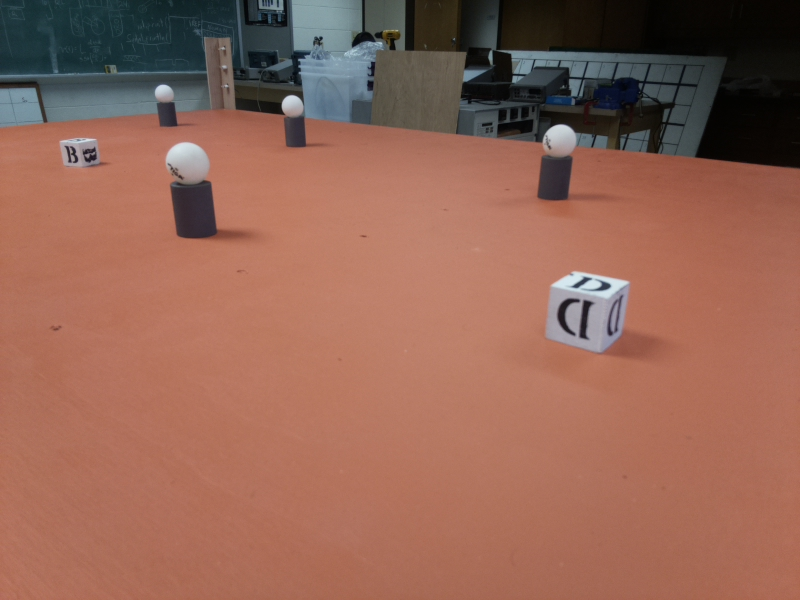blockB: (61, 133, 99, 172)
blockD: (546, 270, 631, 363)
corner: (206, 35, 233, 109)
obstacle: (167, 143, 213, 237), (533, 123, 578, 203), (283, 95, 308, 152), (153, 81, 175, 128)
